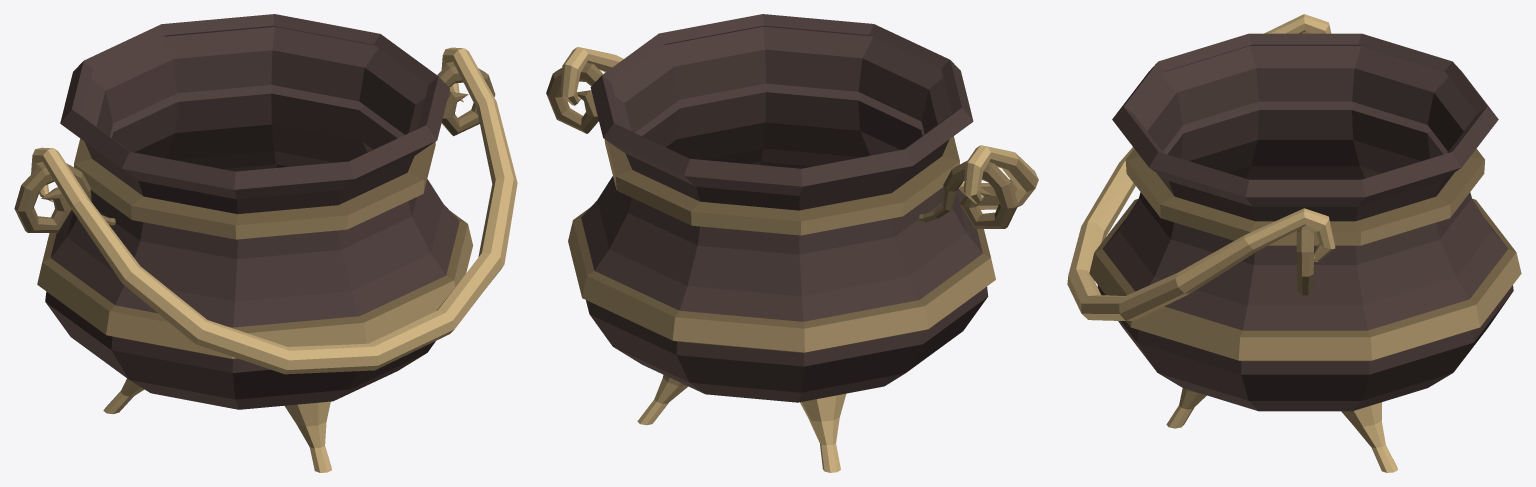
File: WF_LP_HT_Props_Boiler.003.fbx
3 renders of one model, left to right at view 1: azimuth 30°, elevation 25°; view 2: azimuth 150°, elevation 25°; view 3: azimuth 270°, elevation 25°, orthographic. The views are drawn at different scales.
Parts seen in each view (by area): view 1: WF_LP_HT_Props_Boiler.003; view 2: WF_LP_HT_Props_Boiler.003; view 3: WF_LP_HT_Props_Boiler.003.
Boxes of the visible parts, left/top/right/bottom form: WF_LP_HT_Props_Boiler.003: left=14, top=14, right=517, bottom=472; WF_LP_HT_Props_Boiler.003: left=546, top=14, right=1038, bottom=472; WF_LP_HT_Props_Boiler.003: left=1067, top=14, right=1521, bottom=472.
Bounding box in the file's own units: 0.7912 × 0.5184 × 0.6718.
